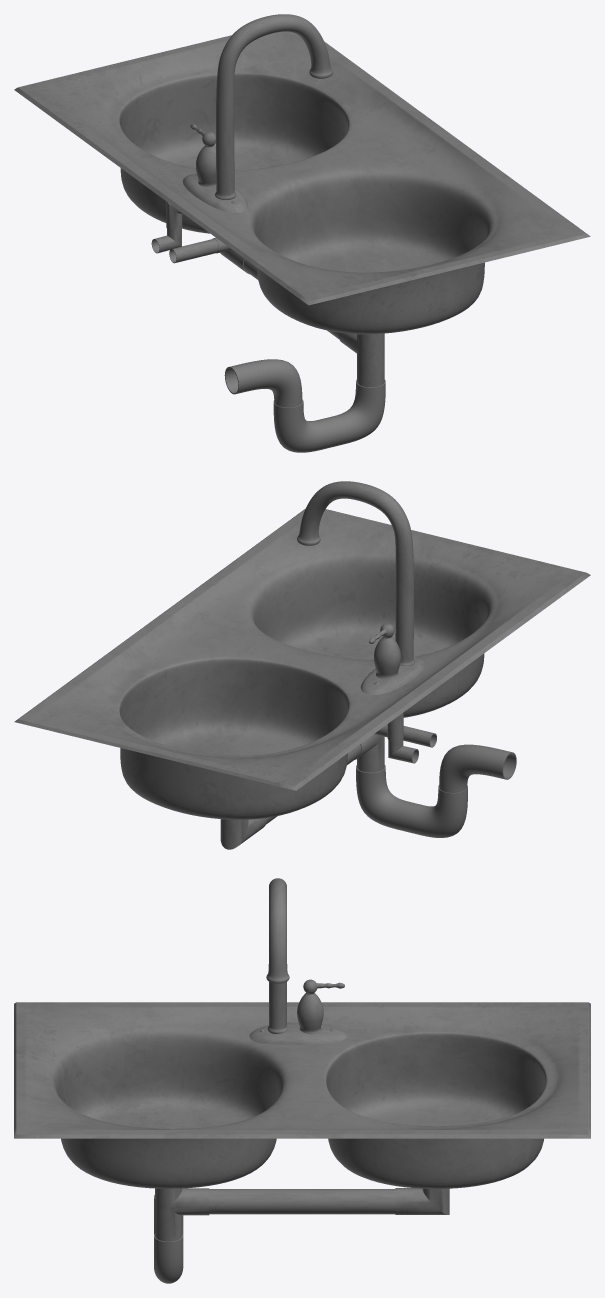
The model's file is sink (1).glb.
3 views of the same model, one above another, from view 1: azimuth 30°, elevation 25°; view 2: azimuth 150°, elevation 25°; view 3: azimuth 270°, elevation 25° (orthographic). The views are drawn at different scales.
Parts seen in each view (by area): view 1: sink_0, facet_10, drain pipe curve _6, drain pipe exit_7, drain tee.l_2, facet plate_11, wtaer valve_12, cold water straight pipe_22; view 2: sink_0, facet_10, drain pipe curve _6, drain pipe exit_7, wtaer valve_12, facet plate_11, drain 90.r_3, drain tee.l_2, hot water 90.2_20, cold water straight pipe_22; view 3: sink_0, cross drain pipe_5, facet_10, drain tee.l_2, drain 90.r_3, facet plate_11, drain pipe curve _6, wtaer valve_12.
Boxes of the visible parts, <box> form: sink_0: <box>14,31,590,334</box>; facet_10: <box>215,14,332,199</box>; drain pipe curve _6: <box>273,379,385,452</box>; drain pipe exit_7: <box>224,359,302,407</box>; drain tee.l_2: <box>338,332,384,387</box>; facet plate_11: <box>182,173,248,212</box>; wtaer valve_12: <box>190,124,216,186</box>; cold water straight pipe_22: <box>169,238,218,263</box>; sink_0: <box>14,509,590,819</box>; facet_10: <box>297,481,414,665</box>; drain pipe curve _6: <box>356,765,467,837</box>; drain pipe exit_7: <box>439,744,516,792</box>; wtaer valve_12: <box>369,623,400,678</box>; facet plate_11: <box>360,657,425,694</box>; drain 90.r_3: <box>220,818,266,849</box>; drain tee.l_2: <box>355,734,384,772</box>; hot water 90.2_20: <box>388,739,418,763</box>; cold water straight pipe_22: <box>387,726,436,747</box>; sink_0: <box>14,1002,590,1188</box>; cross drain pipe_5: <box>209,1189,395,1214</box>; facet_10: <box>266,878,289,1033</box>; drain tee.l_2: <box>155,1188,209,1241</box>; drain 90.r_3: <box>395,1188,449,1214</box>; facet plate_11: <box>249,1022,347,1044</box>; drain pipe curve _6: <box>154,1195,183,1283</box>; wtaer valve_12: <box>297,979,344,1034</box>.
Size of the model in its own units: 2.39 by 3.15 by 4.32.
Materials: 1 (1 with a texture image).
